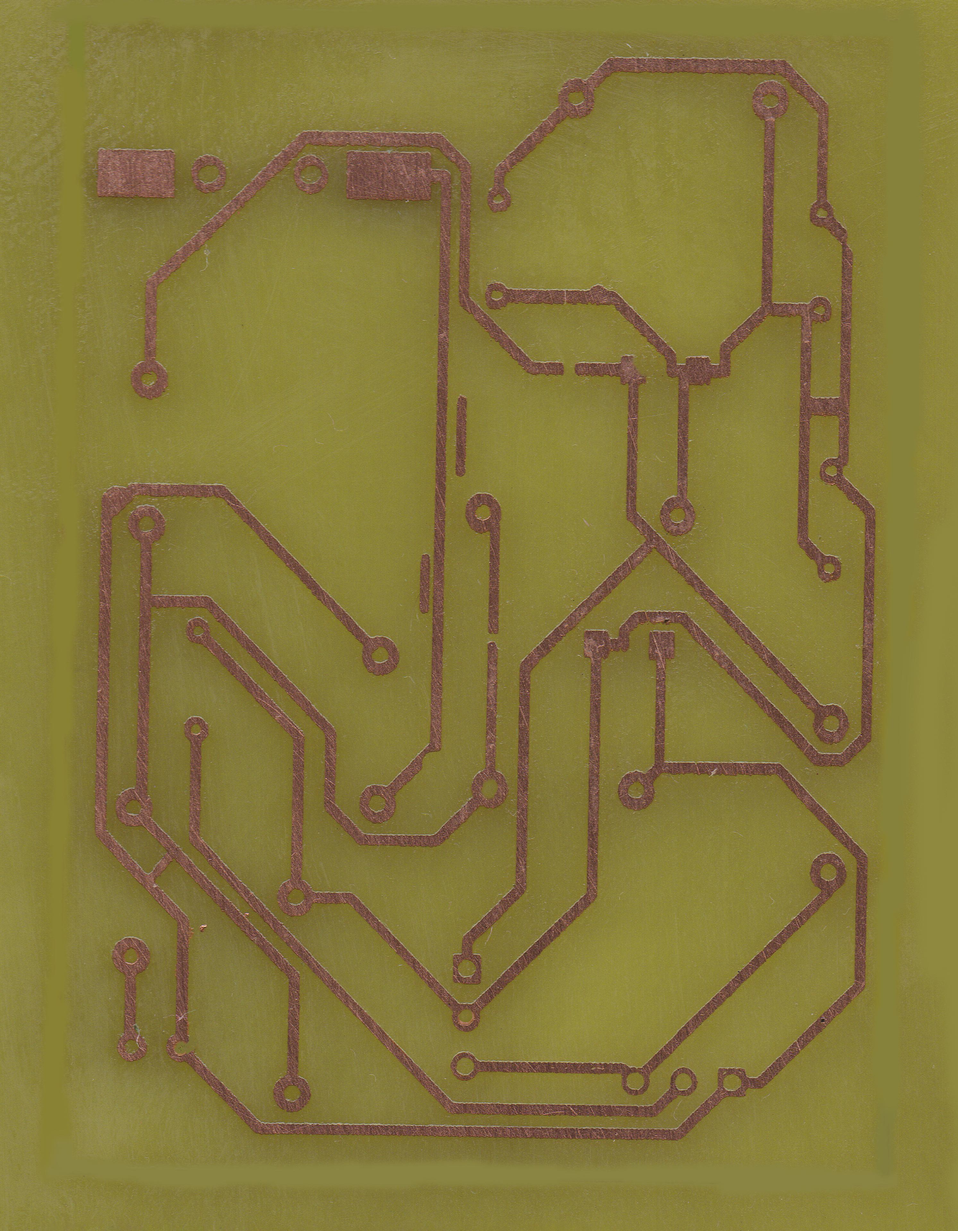missing_hole: (613, 350, 648, 389), (163, 1033, 197, 1063)
mouse_bite: (414, 743, 442, 770), (834, 232, 861, 256)
open_circuit: (480, 623, 506, 653), (554, 355, 585, 380)
short: (793, 386, 856, 422), (139, 840, 178, 889)
spur: (99, 484, 128, 515), (582, 281, 613, 308)
spurious_copper: (453, 392, 471, 480), (418, 552, 432, 617)
